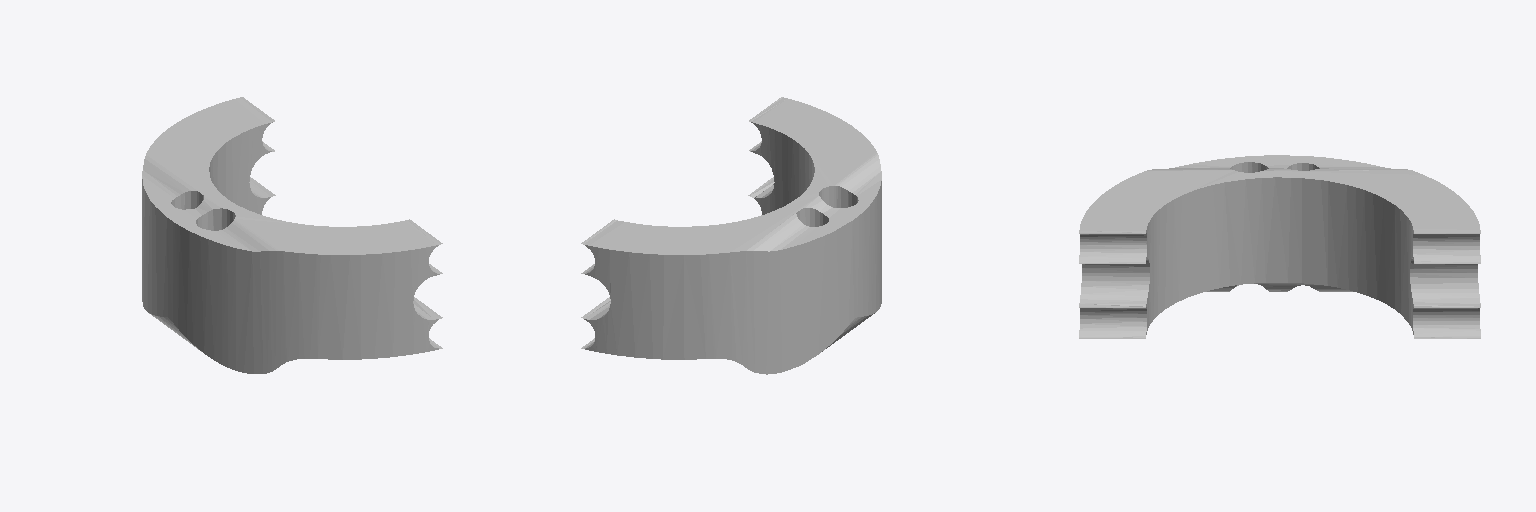
The model's file is seg11.OBJ.
3 views of the same model, side by side, from view 1: azimuth 30°, elevation 25°; view 2: azimuth 150°, elevation 25°; view 3: azimuth 270°, elevation 25° (orthographic).
Parts seen in each view (by area): view 1: /ambf/env/seg11_seg11; view 2: /ambf/env/seg11_seg11; view 3: /ambf/env/seg11_seg11.
Boxes of the visible parts, box(x1,y1,x2,y2) form: /ambf/env/seg11_seg11: box(142, 97, 442, 373); /ambf/env/seg11_seg11: box(581, 97, 881, 374); /ambf/env/seg11_seg11: box(1079, 155, 1480, 338).
Bounding box in the file's own units: 0.003 × 0.0021 × 0.006.